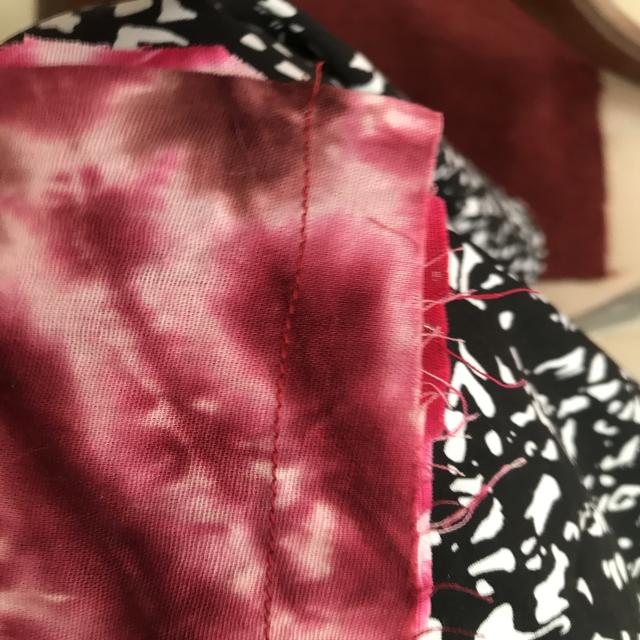good: (252, 564, 293, 620), (264, 412, 288, 505)
